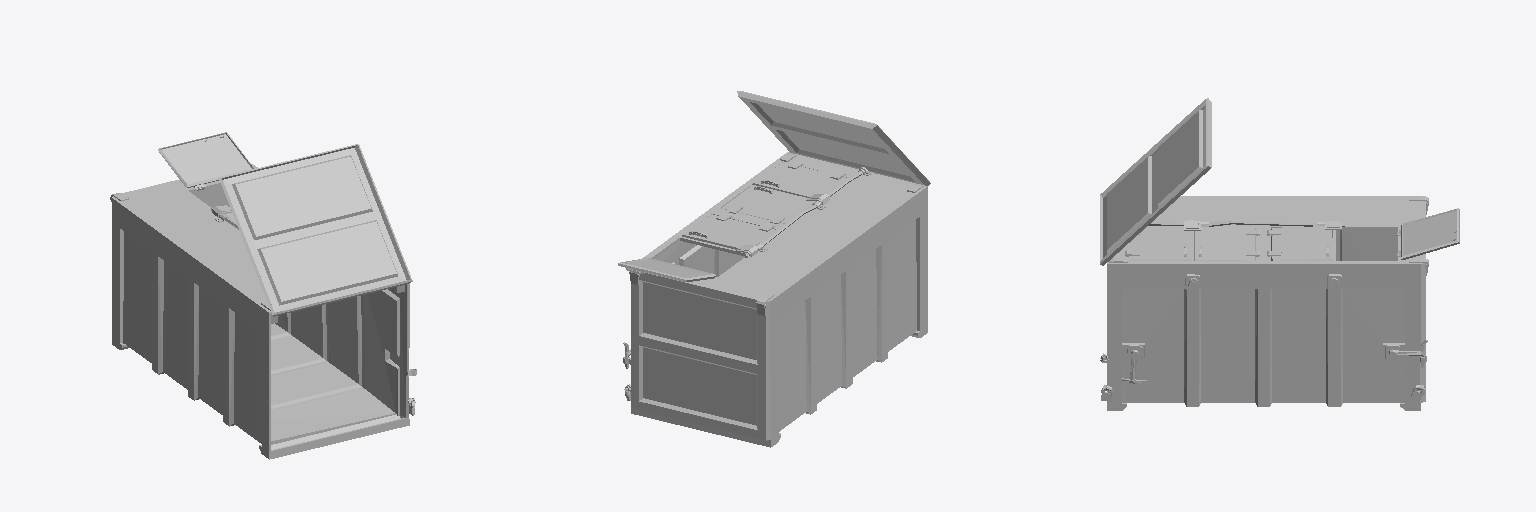
Rendered from uploads_files_635664_Dumpster.obj.
The picture shows the model from 3 angles: view 1: azimuth 30°, elevation 25°; view 2: azimuth 150°, elevation 25°; view 3: azimuth 270°, elevation 25°; orthographic projection.
Bounding box in the file's own units: 4.95 × 7.9 × 10.53.